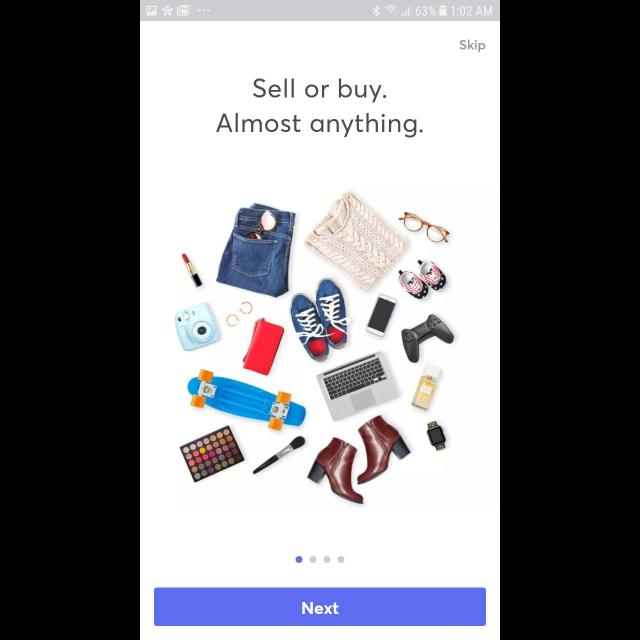image: (175, 189, 455, 505)
pageindicator: (296, 556, 344, 564)
text: (216, 114, 424, 138), (254, 79, 386, 103), (459, 40, 485, 52)
textbutton: (154, 586, 486, 626)
uppertaskbar: (140, 1, 500, 22)
